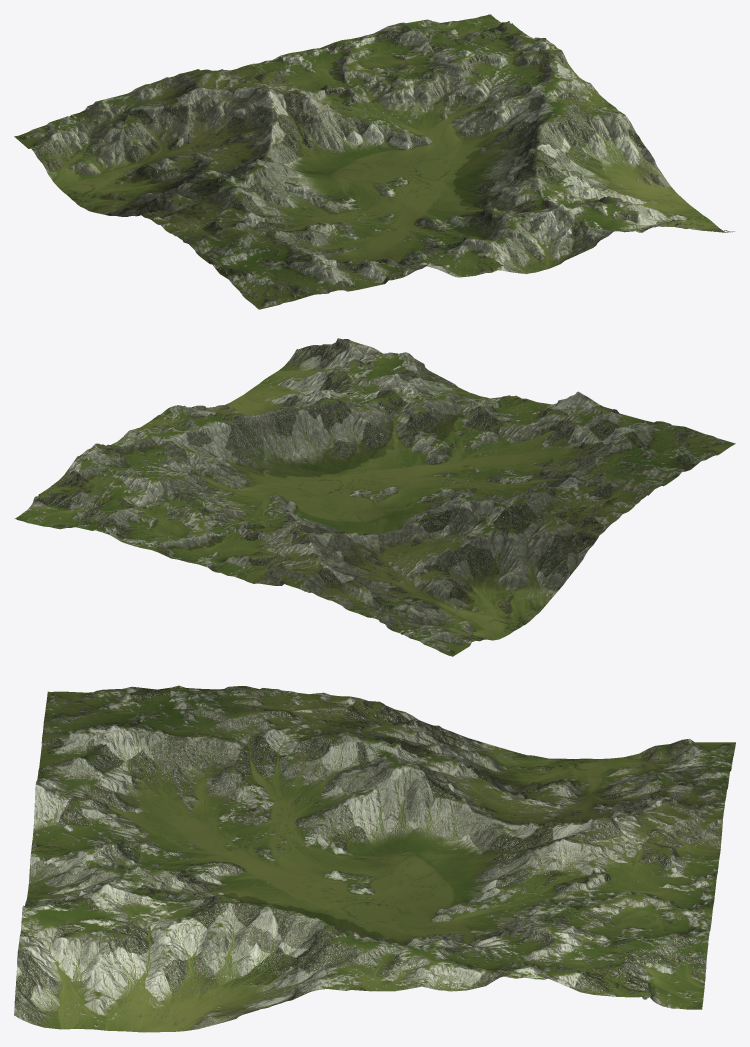
File: Lands.glb
The picture shows the model from 3 angles, top to bottom: view 1: azimuth 30°, elevation 25°; view 2: azimuth 150°, elevation 25°; view 3: azimuth 270°, elevation 25°; orthographic projection. The views are drawn at different scales.
Visible parts, largest first — view 1: Lands_01; view 2: Lands_01; view 3: Lands_01.
Part boxes in pixels (box(x1,y1,x2,y2)): Lands_01: box(14, 14, 734, 309); Lands_01: box(15, 338, 735, 656); Lands_01: box(14, 685, 735, 1032).
Size of the model in its own units: 5.16 by 0.6111 by 5.16.
Materials: 1 (1 with a texture image).
